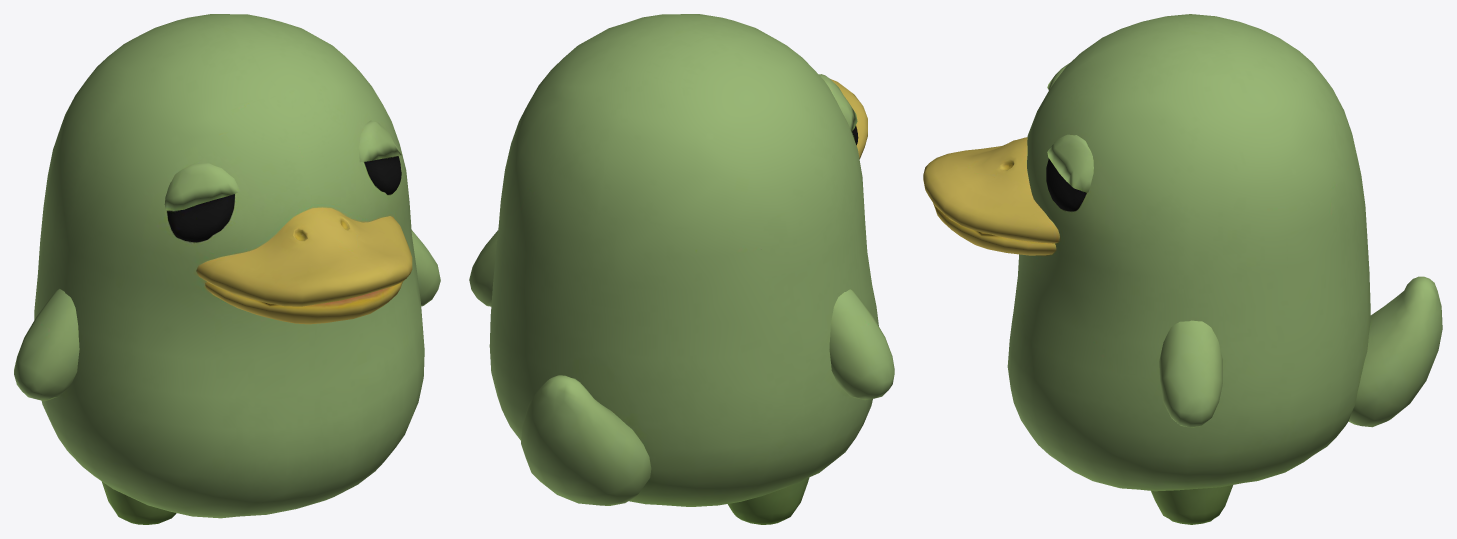
Rendered from asset_pack_item_glb-vd7d0dcraj58ycbcm7n9arqjjx8bztjr-8-ks742nj1ytwdtdaah47v73tzj58bz9vq.glb.
The picture shows the model from 3 angles, left to right: view 1: azimuth 30°, elevation 25°; view 2: azimuth 150°, elevation 25°; view 3: azimuth 270°, elevation 25°; orthographic projection. The views are drawn at different scales.
Parts seen in each view (by area): view 1: adult-kuchipa; view 2: adult-kuchipa; view 3: adult-kuchipa.
Boxes of the visible parts, x1,y1,x2,y2 form: adult-kuchipa: (14,14,440,524); adult-kuchipa: (469,14,894,524); adult-kuchipa: (923,14,1442,524).
Bounding box in the file's own units: 0.8887 × 0.9512 × 0.998.
Materials: 1 (1 with a texture image).
